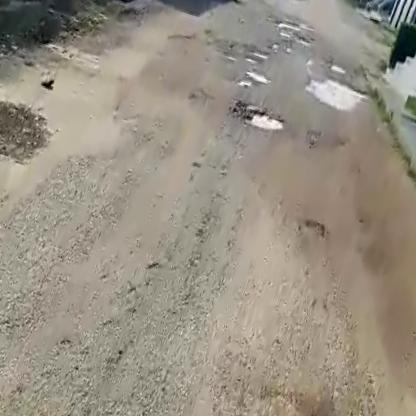pothole: (307, 69, 369, 112), (234, 101, 290, 139), (240, 65, 273, 88)
